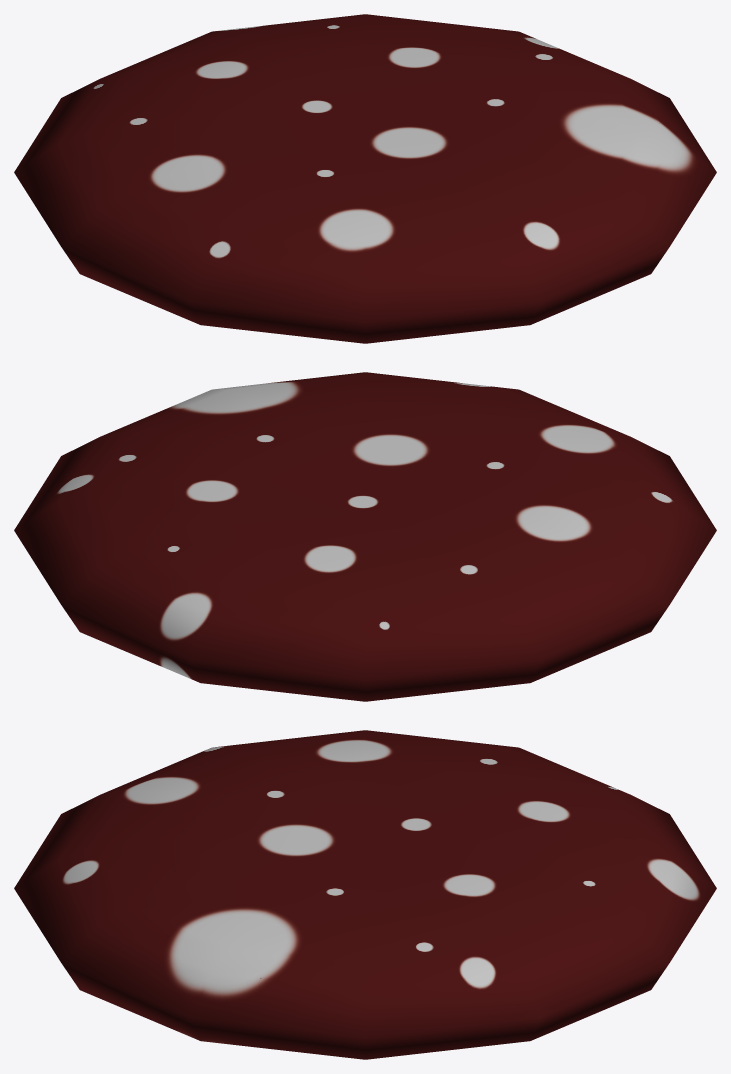
File: Bumper.fbx
3 renders of one model, top to bottom at view 1: azimuth 30°, elevation 25°; view 2: azimuth 150°, elevation 25°; view 3: azimuth 270°, elevation 25°, orthographic.
Parts seen in each view (by area): view 1: Bumper; view 2: Bumper; view 3: Bumper.
Part boxes in pixels (bbox=[...]): Bumper: bbox=[14, 14, 716, 343]; Bumper: bbox=[14, 372, 716, 701]; Bumper: bbox=[14, 730, 716, 1059].
Size of the model in its own units: 60.93 by 10.13 by 60.93.
